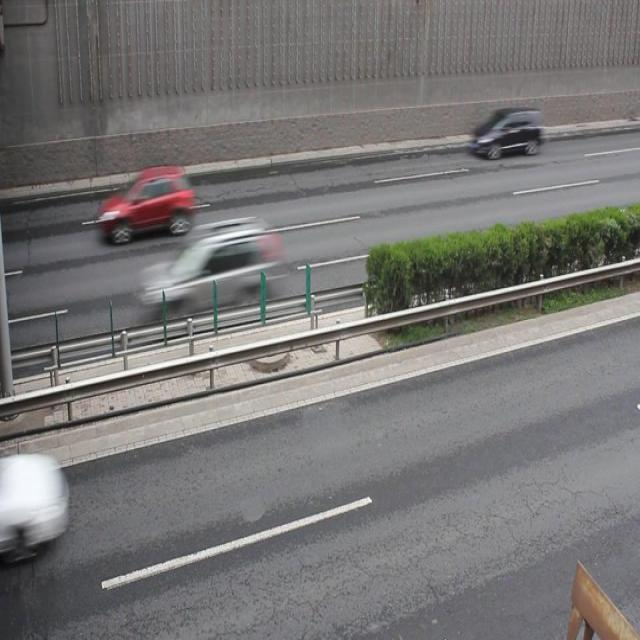car: (140, 212, 280, 320), (1, 448, 71, 562), (99, 166, 194, 244), (470, 106, 542, 161)
